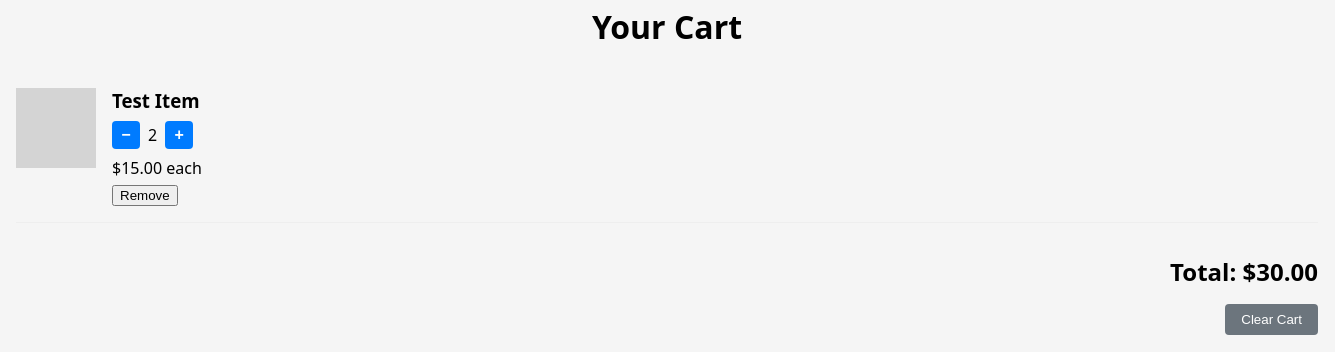
Test: Cart page › increases quantity when + button is clicked
Click the button "+" at coordinates (179, 135), box [165,121,193,149]
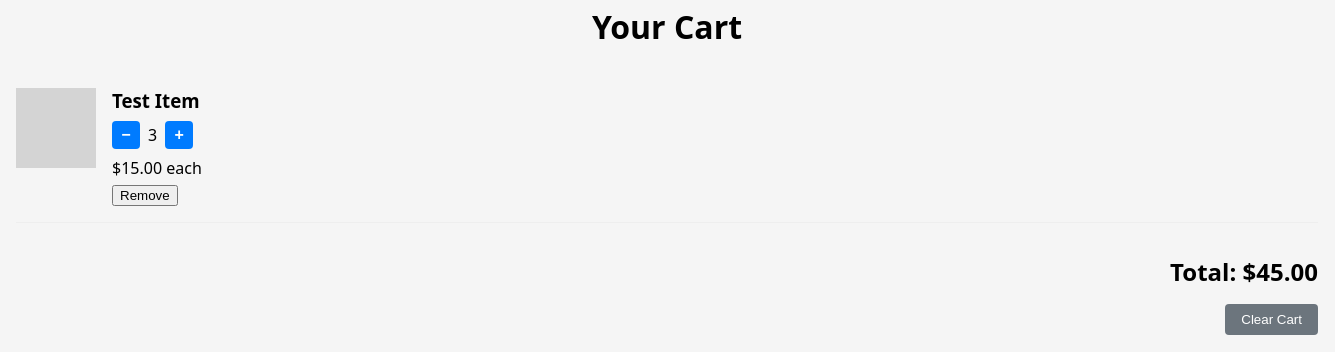
Expected: the text "3" is shown, [148,124,157,146]
